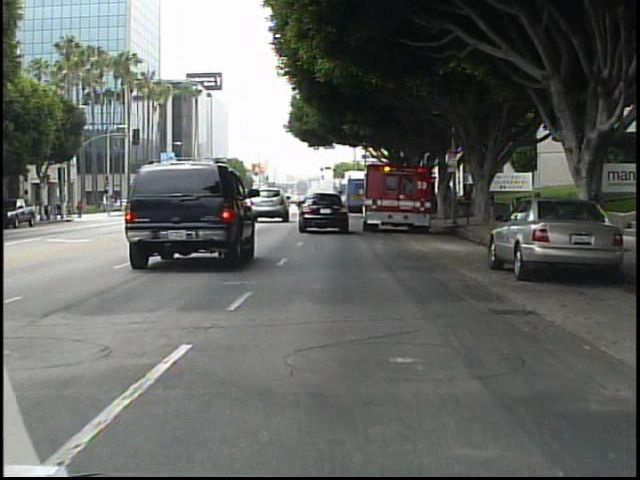person: (462, 186, 475, 222), (74, 197, 87, 222), (65, 198, 77, 222)
